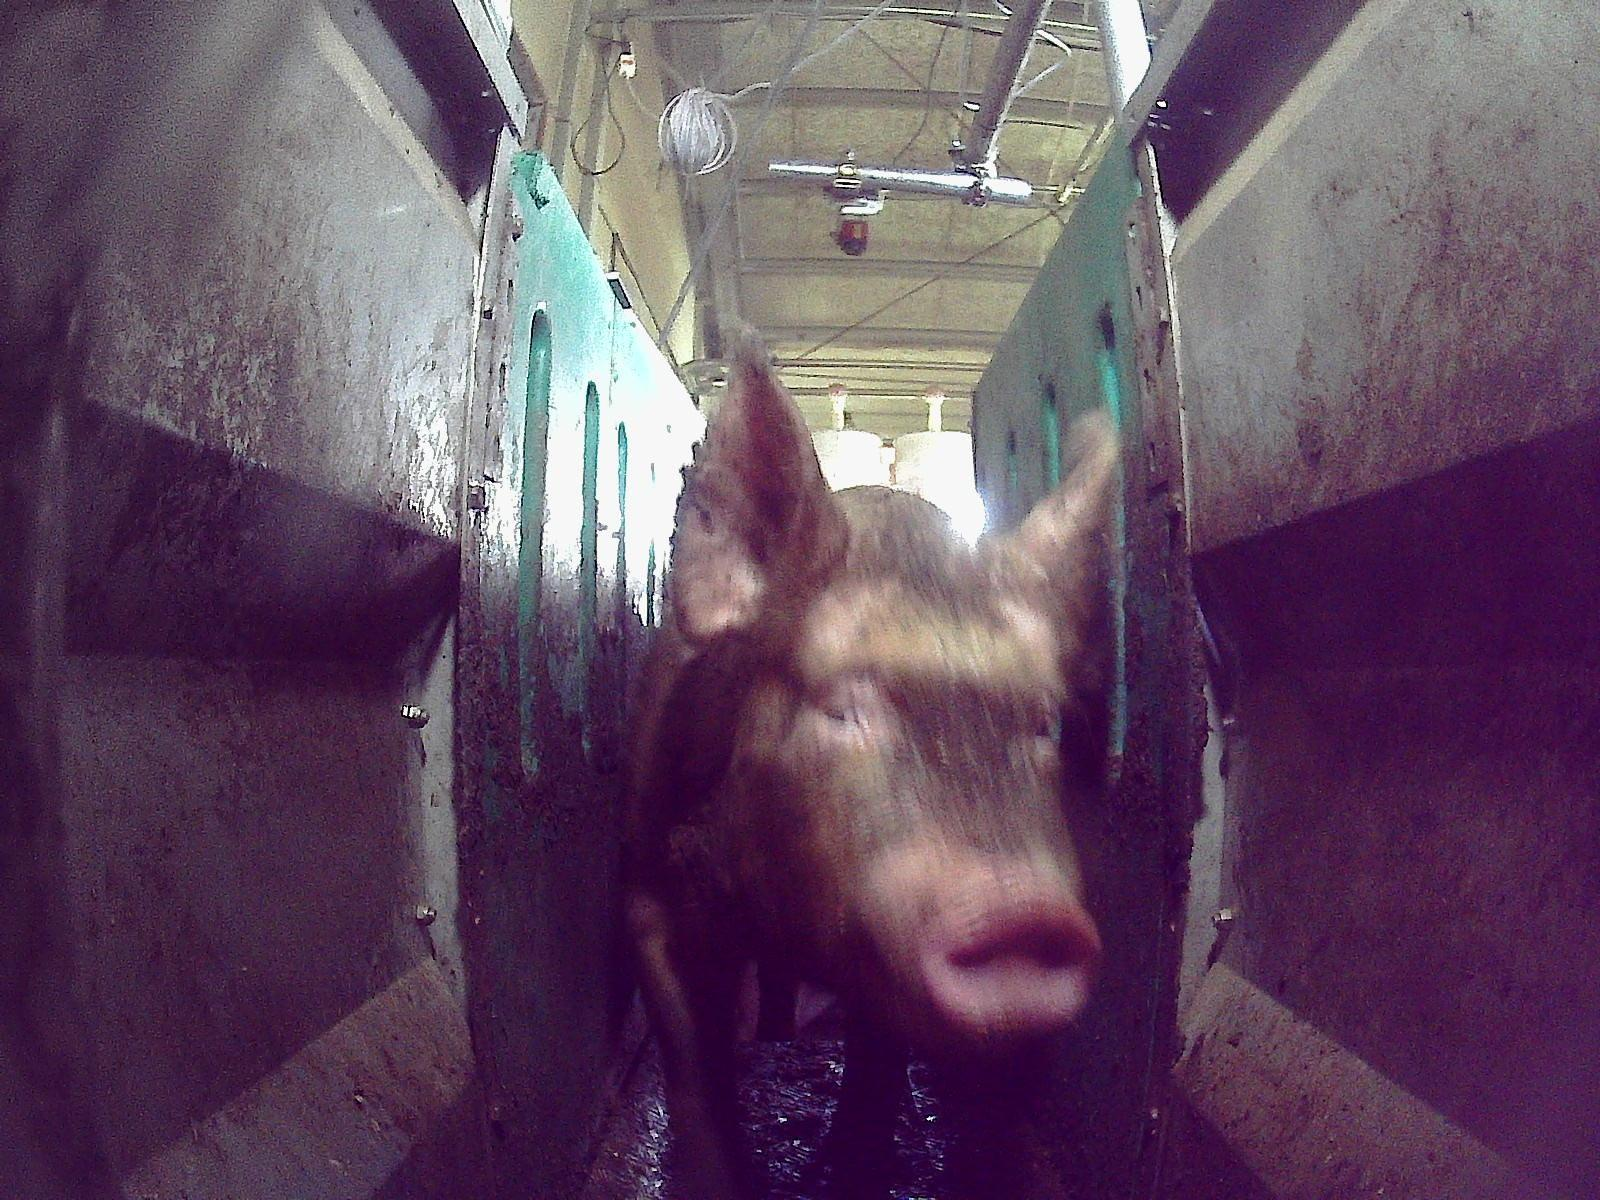Face: (736, 539, 1100, 1064)
